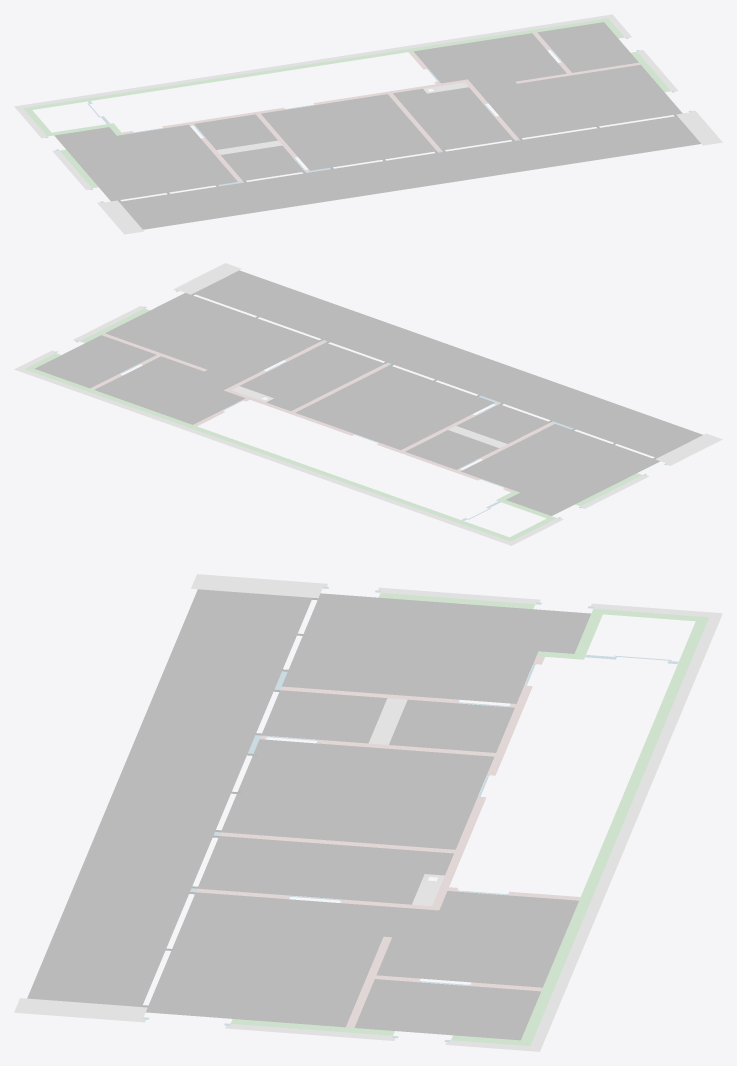
Rendered from floor-497750.glb.
3 renders of one model, top to bottom at view 1: azimuth 30°, elevation 25°; view 2: azimuth 150°, elevation 25°; view 3: azimuth 270°, elevation 25°, orthographic. The views are drawn at different scales.
Parts seen in each view (by area): view 1: SectionBody_18,de89aea8-538b-4391-9850-51a45f310a7d, SectionBody_28,479ffe48-f63f-4cdc-9a29-5ed8d2618c3d, SectionBody_10,158cad23-91ba-4ef1-ae7e-258570cedbbe, SectionBody_14,beefb470-fe1f-400e-a017-4379c297e920, SectionBody_79,dba8de76-29e1-4d64-a096-d0c128a51ff9, SectionBody_84,0297b300-e6d4-4720-a0ce-df3d1cfc16de, SectionBody_0,5cb63768-c57b-4bab-b736-06cb00baeb3b, SectionBody_41,92661b3a-fcdb-42f5-9150-bac843ed632c, SectionBody_27,92661b3a-fcdb-42f5-9150-bac843ed632c, SectionBody_42,882e43d4-1f59-4184-a4f0-7ba0577b3e58, SectionBody_13,54732cdd-1e45-4bc9-8f35-411170b774ea, SectionBody_4,4ecf0550-45c0-4ded-8eb9-6f0e435f92f0 (+8 smaller); view 2: SectionBody_18,de89aea8-538b-4391-9850-51a45f310a7d, SectionBody_28,479ffe48-f63f-4cdc-9a29-5ed8d2618c3d, SectionBody_10,158cad23-91ba-4ef1-ae7e-258570cedbbe, SectionBody_14,beefb470-fe1f-400e-a017-4379c297e920, SectionBody_79,dba8de76-29e1-4d64-a096-d0c128a51ff9, SectionBody_84,0297b300-e6d4-4720-a0ce-df3d1cfc16de, SectionBody_0,5cb63768-c57b-4bab-b736-06cb00baeb3b, SectionBody_41,92661b3a-fcdb-42f5-9150-bac843ed632c, SectionBody_27,92661b3a-fcdb-42f5-9150-bac843ed632c, SectionBody_13,54732cdd-1e45-4bc9-8f35-411170b774ea, SectionBody_42,882e43d4-1f59-4184-a4f0-7ba0577b3e58, SectionBody_4,4ecf0550-45c0-4ded-8eb9-6f0e435f92f0 (+6 smaller); view 3: SectionBody_18,de89aea8-538b-4391-9850-51a45f310a7d, SectionBody_28,479ffe48-f63f-4cdc-9a29-5ed8d2618c3d, SectionBody_10,158cad23-91ba-4ef1-ae7e-258570cedbbe, SectionBody_14,beefb470-fe1f-400e-a017-4379c297e920, SectionBody_79,dba8de76-29e1-4d64-a096-d0c128a51ff9, SectionBody_84,0297b300-e6d4-4720-a0ce-df3d1cfc16de, SectionBody_0,5cb63768-c57b-4bab-b736-06cb00baeb3b, SectionBody_41,92661b3a-fcdb-42f5-9150-bac843ed632c, SectionBody_27,92661b3a-fcdb-42f5-9150-bac843ed632c, SectionBody_13,54732cdd-1e45-4bc9-8f35-411170b774ea, SectionBody_42,882e43d4-1f59-4184-a4f0-7ba0577b3e58, SectionBody_54,aeb265a0-2cff-4c14-8703-f3e4c57c95e6 (+12 smaller).
Boxes of the visible parts, x1,y1,x2,y2 form: SectionBody_18,de89aea8-538b-4391-9850-51a45f310a7d: (119, 116, 700, 229); SectionBody_28,479ffe48-f63f-4cdc-9a29-5ed8d2618c3d: (477, 64, 682, 138); SectionBody_10,158cad23-91ba-4ef1-ae7e-258570cedbbe: (54, 124, 237, 201); SectionBody_14,beefb470-fe1f-400e-a017-4379c297e920: (261, 94, 436, 170); SectionBody_79,dba8de76-29e1-4d64-a096-d0c128a51ff9: (414, 33, 566, 89); SectionBody_84,0297b300-e6d4-4720-a0ce-df3d1cfc16de: (393, 87, 513, 150); SectionBody_0,5cb63768-c57b-4bab-b736-06cb00baeb3b: (537, 22, 638, 72); SectionBody_41,92661b3a-fcdb-42f5-9150-bac843ed632c: (21, 14, 614, 108); SectionBody_27,92661b3a-fcdb-42f5-9150-bac843ed632c: (30, 18, 610, 109); SectionBody_42,882e43d4-1f59-4184-a4f0-7ba0577b3e58: (194, 114, 277, 149); SectionBody_13,54732cdd-1e45-4bc9-8f35-411170b774ea: (221, 145, 304, 180); SectionBody_4,4ecf0550-45c0-4ded-8eb9-6f0e435f92f0: (122, 80, 464, 134); SectionBody_18,de89aea8-538b-4391-9850-51a45f310a7d: (193, 270, 702, 457); SectionBody_28,479ffe48-f63f-4cdc-9a29-5ed8d2618c3d: (105, 293, 320, 381); SectionBody_10,158cad23-91ba-4ef1-ae7e-258570cedbbe: (461, 424, 659, 515); SectionBody_14,beefb470-fe1f-400e-a017-4379c297e920: (295, 365, 494, 450); SectionBody_79,dba8de76-29e1-4d64-a096-d0c128a51ff9: (95, 356, 245, 424); SectionBody_84,0297b300-e6d4-4720-a0ce-df3d1cfc16de: (240, 342, 384, 411); SectionBody_0,5cb63768-c57b-4bab-b736-06cb00baeb3b: (35, 335, 156, 388); SectionBody_41,92661b3a-fcdb-42f5-9150-bac843ed632c: (14, 367, 509, 543); SectionBody_27,92661b3a-fcdb-42f5-9150-bac843ed632c: (24, 367, 509, 539); SectionBody_13,54732cdd-1e45-4bc9-8f35-411170b774ea: (456, 404, 550, 443); SectionBody_42,882e43d4-1f59-4184-a4f0-7ba0577b3e58: (405, 430, 498, 469); SectionBody_4,4ecf0550-45c0-4ded-8eb9-6f0e435f92f0: (228, 390, 514, 492); SectionBody_18,de89aea8-538b-4391-9850-51a45f310a7d: (27, 589, 312, 1006); SectionBody_28,479ffe48-f63f-4cdc-9a29-5ed8d2618c3d: (146, 892, 395, 1027); SectionBody_10,158cad23-91ba-4ef1-ae7e-258570cedbbe: (281, 593, 590, 703); SectionBody_14,beefb470-fe1f-400e-a017-4379c297e920: (221, 739, 494, 849); SectionBody_79,dba8de76-29e1-4d64-a096-d0c128a51ff9: (376, 891, 578, 987); SectionBody_84,0297b300-e6d4-4720-a0ce-df3d1cfc16de: (197, 836, 453, 904); SectionBody_0,5cb63768-c57b-4bab-b736-06cb00baeb3b: (354, 979, 540, 1040); SectionBody_41,92661b3a-fcdb-42f5-9150-bac843ed632c: (528, 617, 720, 1051); SectionBody_27,92661b3a-fcdb-42f5-9150-bac843ed632c: (519, 621, 706, 1045); SectionBody_13,54732cdd-1e45-4bc9-8f35-411170b774ea: (261, 690, 387, 743); SectionBody_42,882e43d4-1f59-4184-a4f0-7ba0577b3e58: (389, 699, 514, 752); SectionBody_54,aeb265a0-2cff-4c14-8703-f3e4c57c95e6: (14, 998, 147, 1022).
Size of the model in its own units: 19203 by 0 by 12040.
